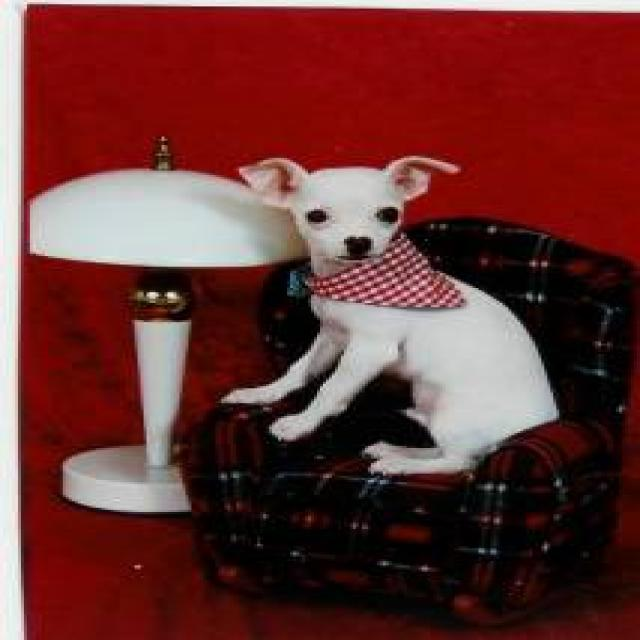dog-chihuahua: (209, 143, 565, 484)
